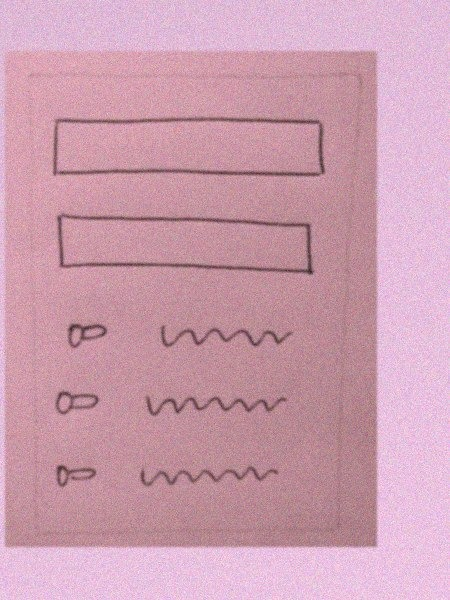switch: (50, 379, 103, 419), (61, 317, 114, 356), (49, 457, 102, 496)
text: (151, 318, 298, 360), (142, 378, 289, 420), (134, 450, 281, 492)
text_input: (46, 108, 331, 188), (48, 209, 322, 281)
